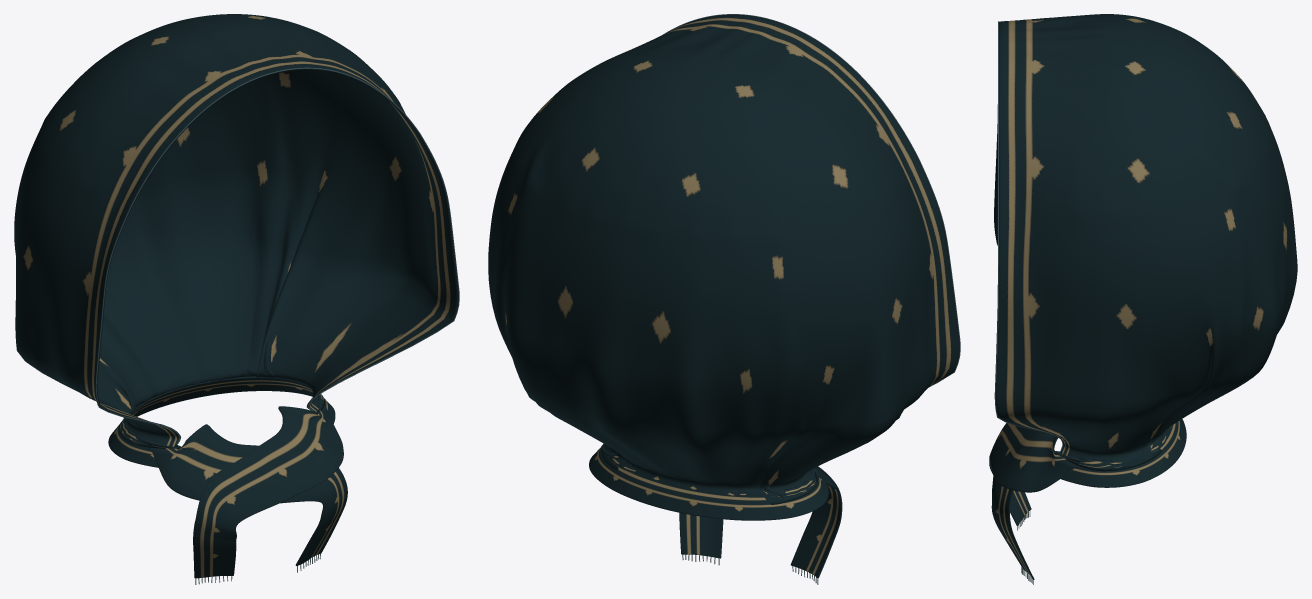
The model's file is Feminine-open-pashmina237-headgear.glb.
The picture shows the model from 3 angles, left to right: view 1: azimuth 30°, elevation 25°; view 2: azimuth 150°, elevation 25°; view 3: azimuth 270°, elevation 25°; orthographic projection. The views are drawn at different scales.
Visible parts, largest first — view 1: 226 headgear / Headwear / continuous woven pashmina237, 226 headgear / Headwear / face edge237; view 2: 226 headgear / Headwear / continuous woven pashmina237, 226 headgear / Headwear / face edge237; view 3: 226 headgear / Headwear / continuous woven pashmina237, 226 headgear / Headwear / face edge237.
Part boxes in pixels (bbox=[...]): 226 headgear / Headwear / continuous woven pashmina237: bbox=[14, 14, 458, 578]; 226 headgear / Headwear / face edge237: bbox=[95, 67, 459, 444]; 226 headgear / Headwear / continuous woven pashmina237: bbox=[488, 14, 959, 578]; 226 headgear / Headwear / face edge237: bbox=[663, 14, 960, 387]; 226 headgear / Headwear / continuous woven pashmina237: bbox=[989, 14, 1297, 579]; 226 headgear / Headwear / face edge237: bbox=[994, 21, 1063, 451].
Bounding box in the file's own units: 1.02 × 1.35 × 0.7234.
Materials: 3 (1 with a texture image).
